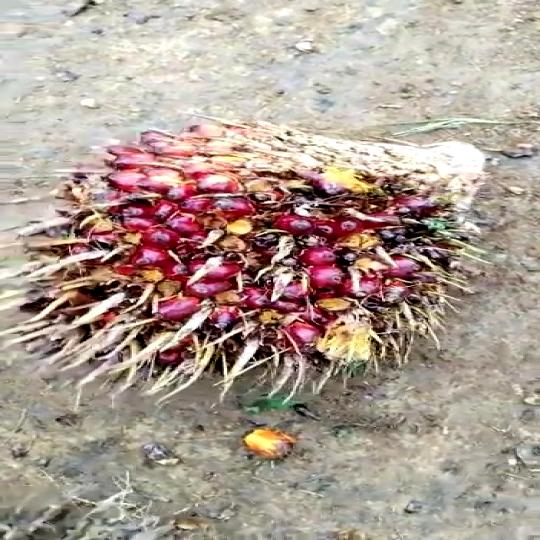masak: (25, 119, 479, 398)
